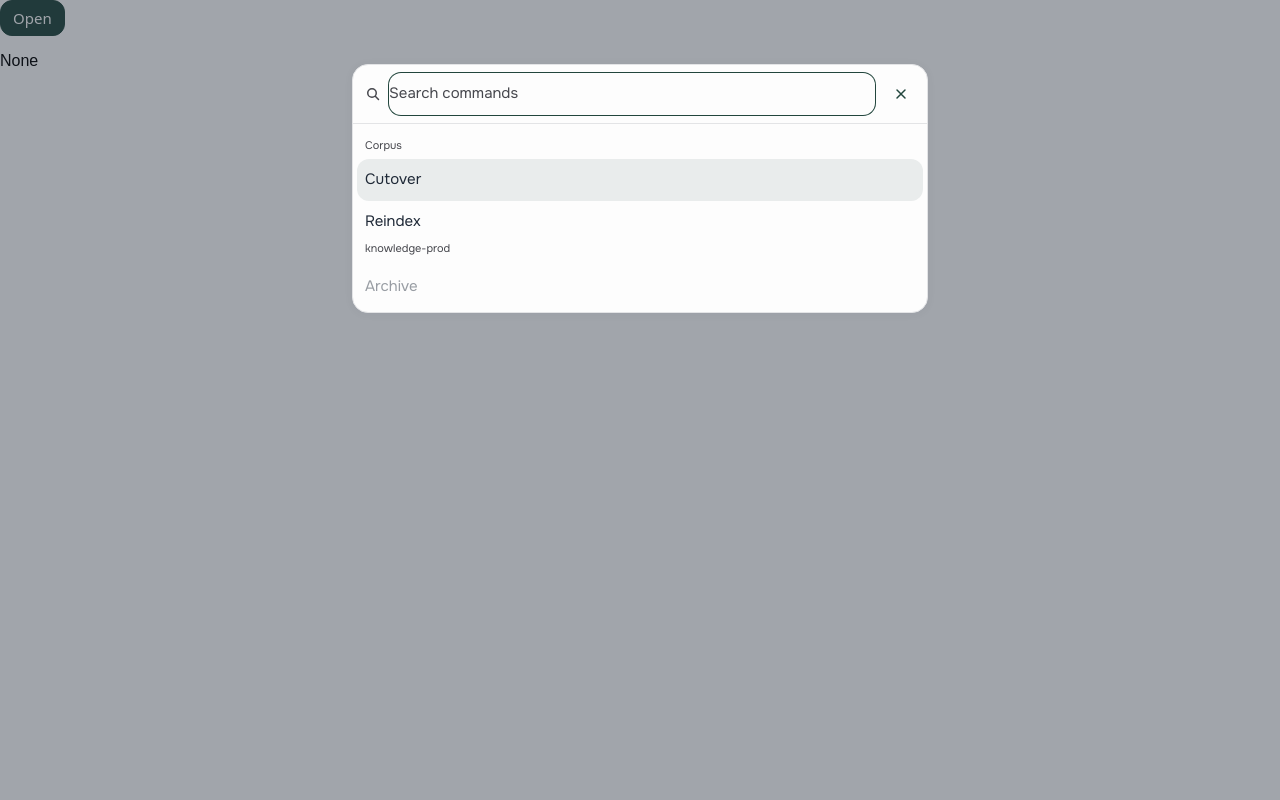
Scenario: CommandPalette › filters, runs a command, and names the dialog
Expected: the dialog named "Command palette" is shown, [352,64,928,313]
Type "re" into the dropdown labelled "Search commands" at (632, 94), box [389,73,875,115]
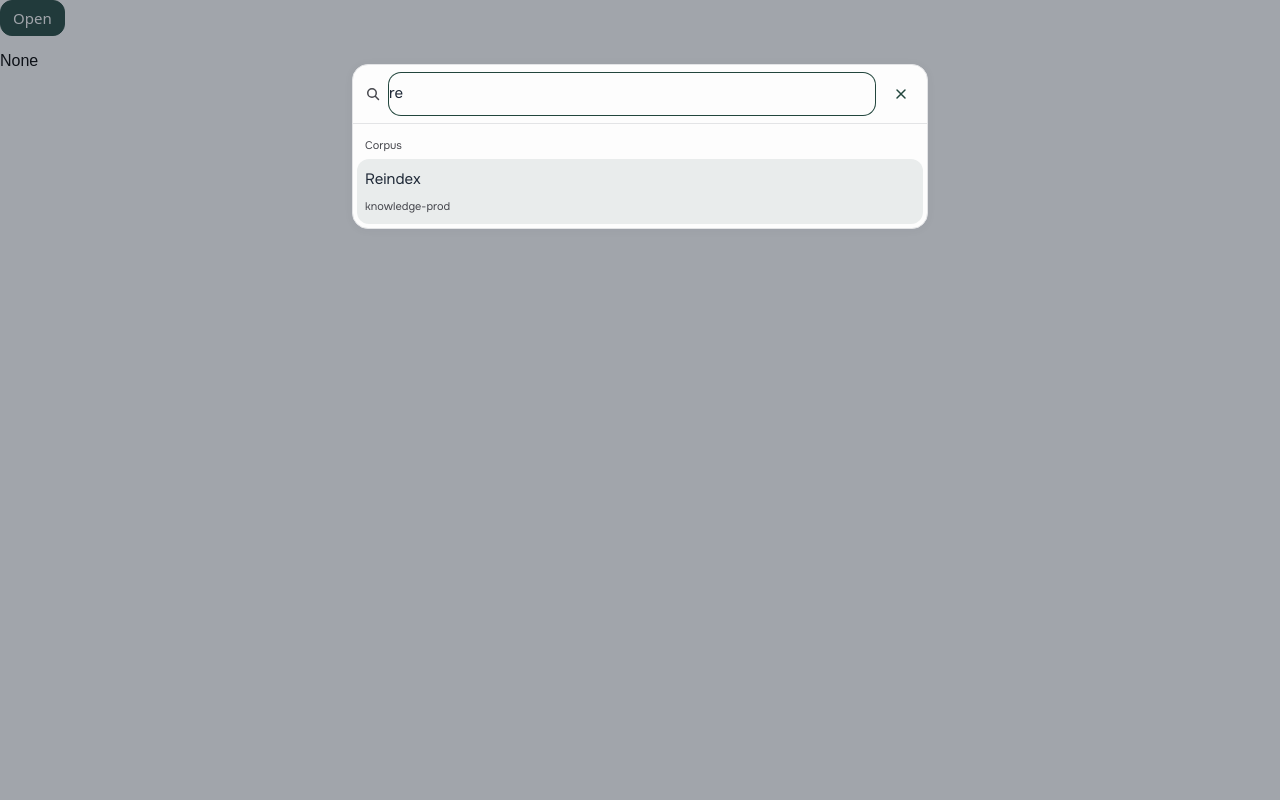
Expected: the option "Cutover" is gone
Click the option "Reindex knowledge-prod" at (393, 179), box [357,159,923,224]
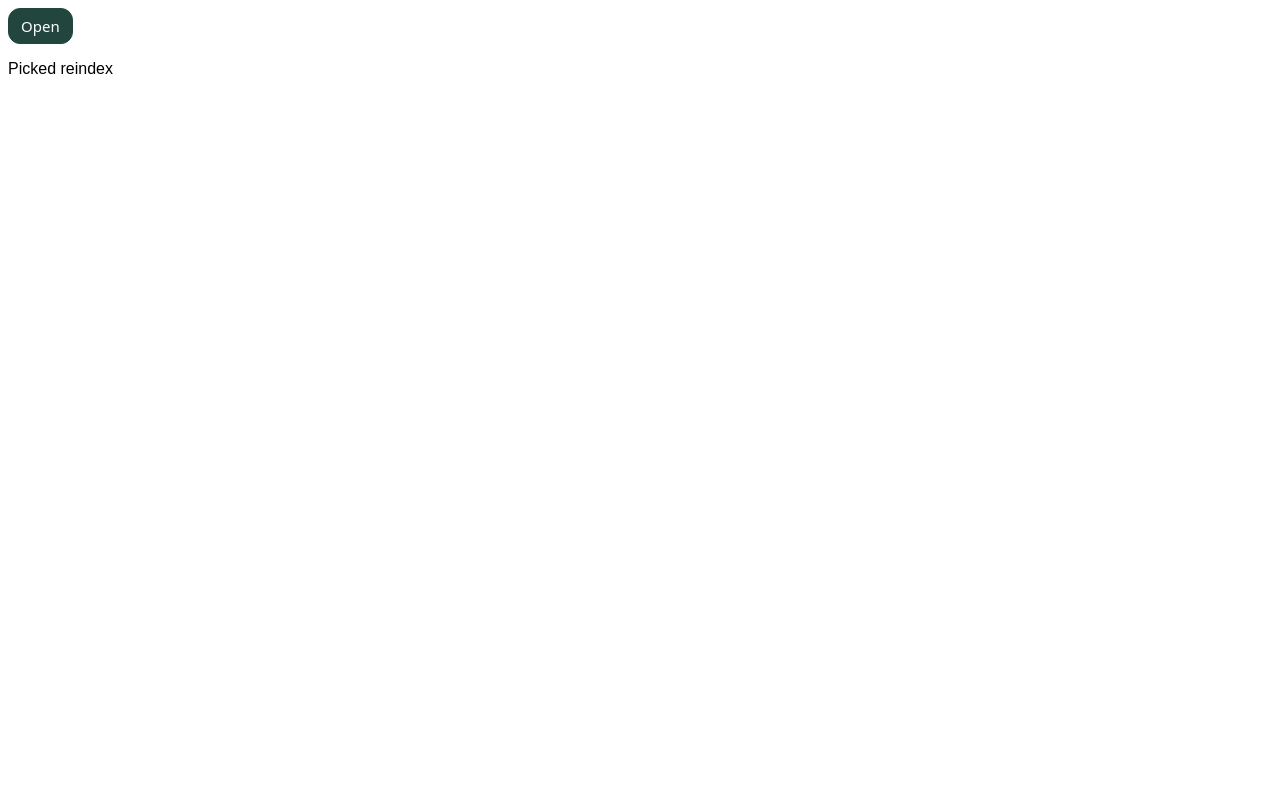
Expected: the text "Picked reindex" is shown, [8,60,113,77]
